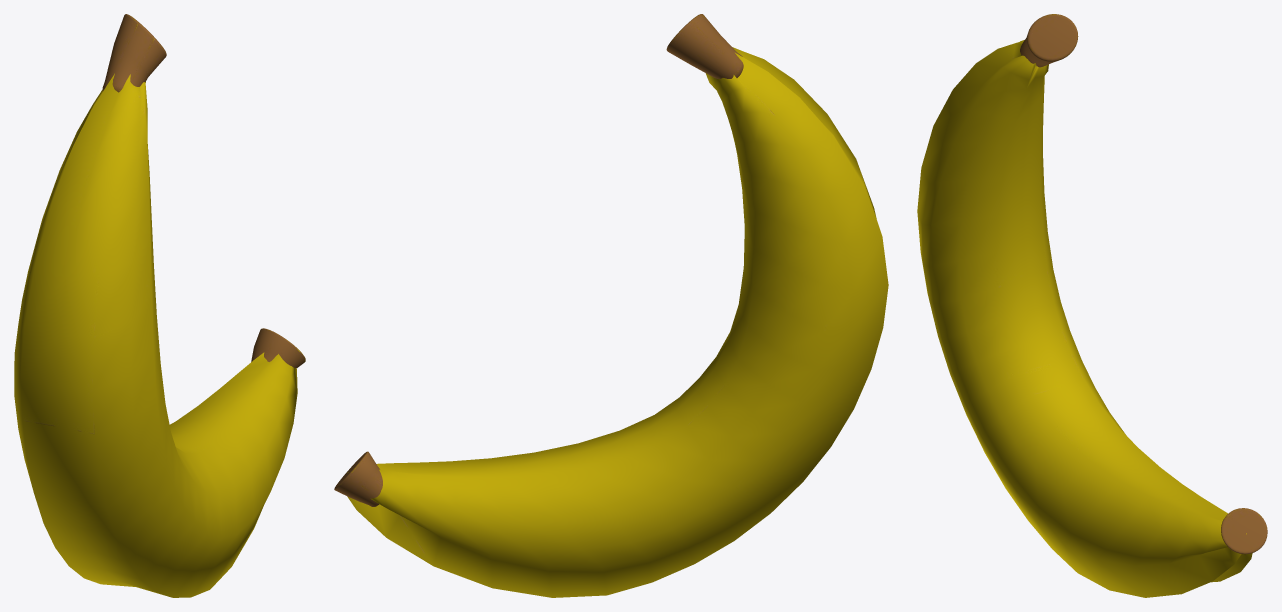
File: banana_4eb3ba34_visual.obj
3 renders of one model, left to right at view 1: azimuth 30°, elevation 25°; view 2: azimuth 150°, elevation 25°; view 3: azimuth 270°, elevation 25°, orthographic. The views are drawn at different scales.
Size of the model in its own units: 0.151 by 0.2 by 0.122.
1 material, 1 textured.
